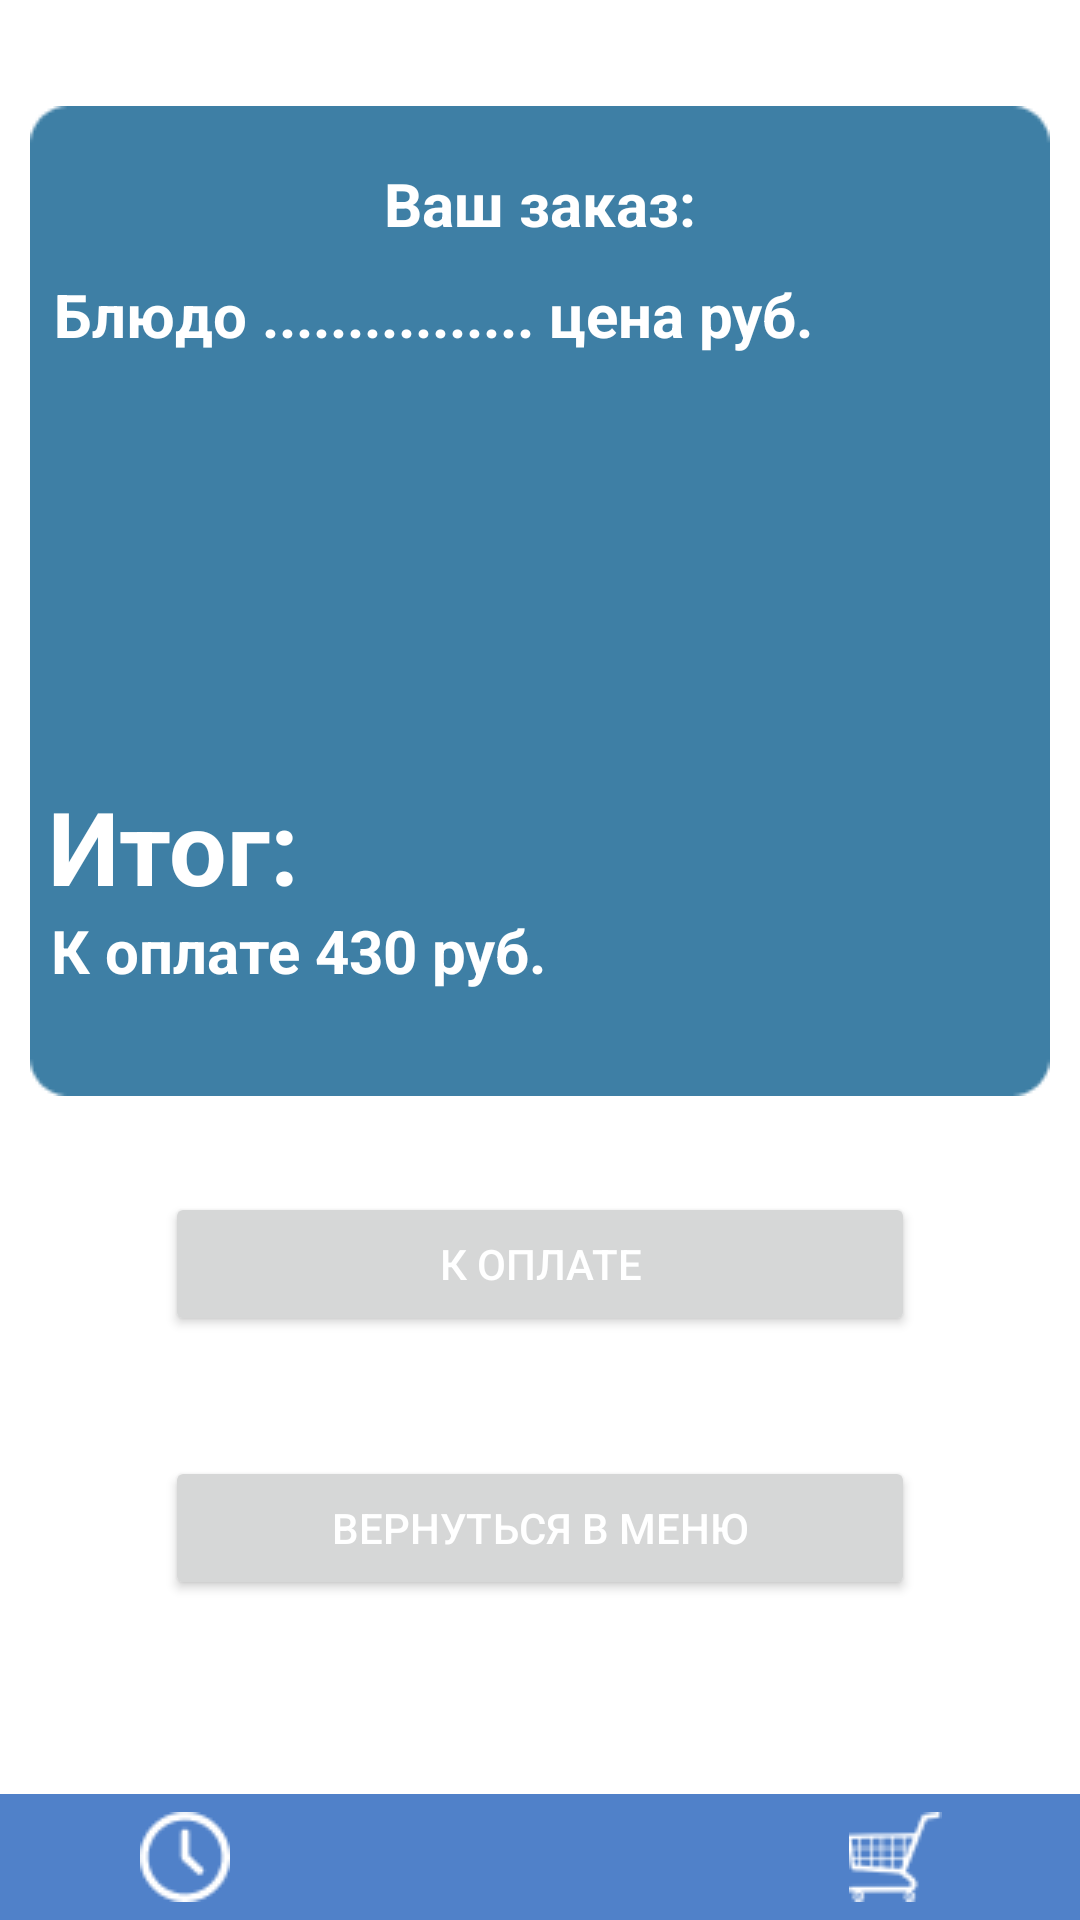

Screen size 1080×1920. Icon name, then its box in pixels as (x1, y1, x2, y2):
cart: (849, 1812, 942, 1902)
history: (140, 1812, 230, 1902)
